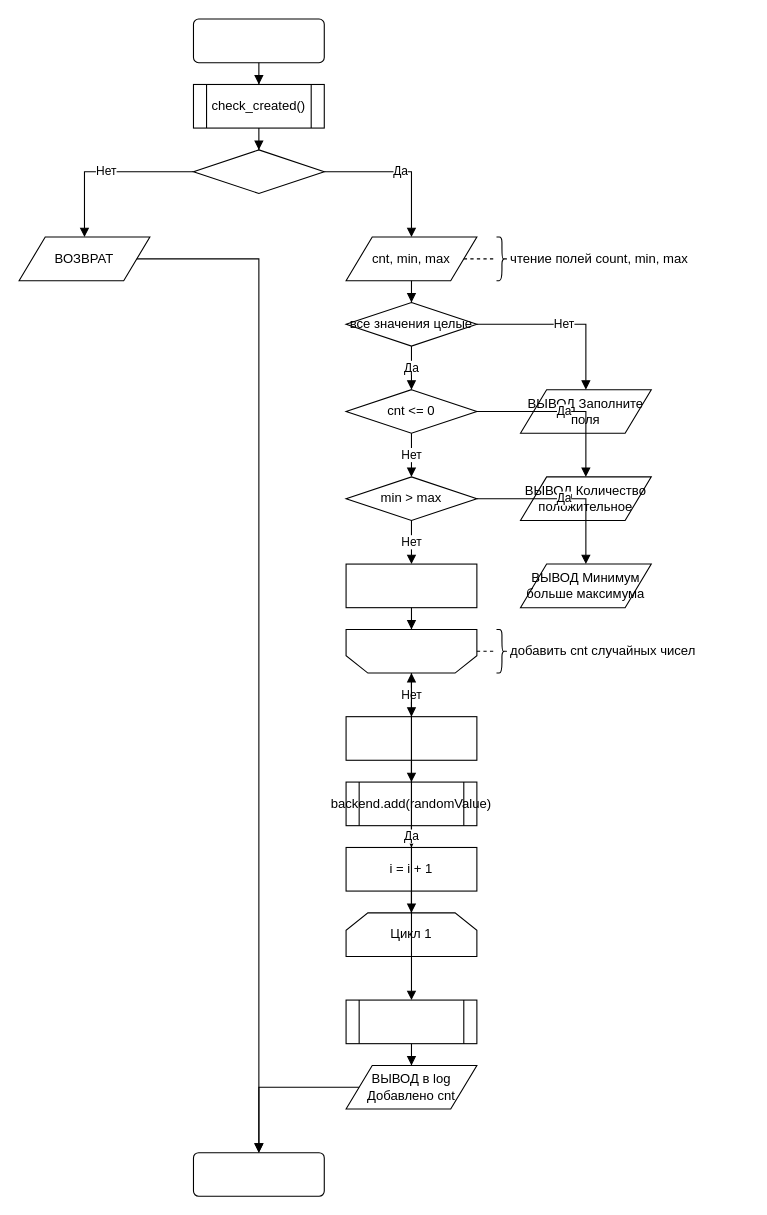
Image size: 767x1215. Some labels were removed from this diagram. Here are the shapes that lost their labels. From the top down, the box of each, then its label:
(192, 18, 324, 63): rand_add НАЧАЛО
(192, 149, 324, 193): структура создана
(345, 563, 477, 608): i = 0
(345, 628, 477, 673): Цикл 1 i >= cnt
(345, 716, 477, 760): randomValue = randint(min,max)
(345, 999, 477, 1044): refresh()
(192, 1152, 324, 1196): КОНЕЦ rand_add
